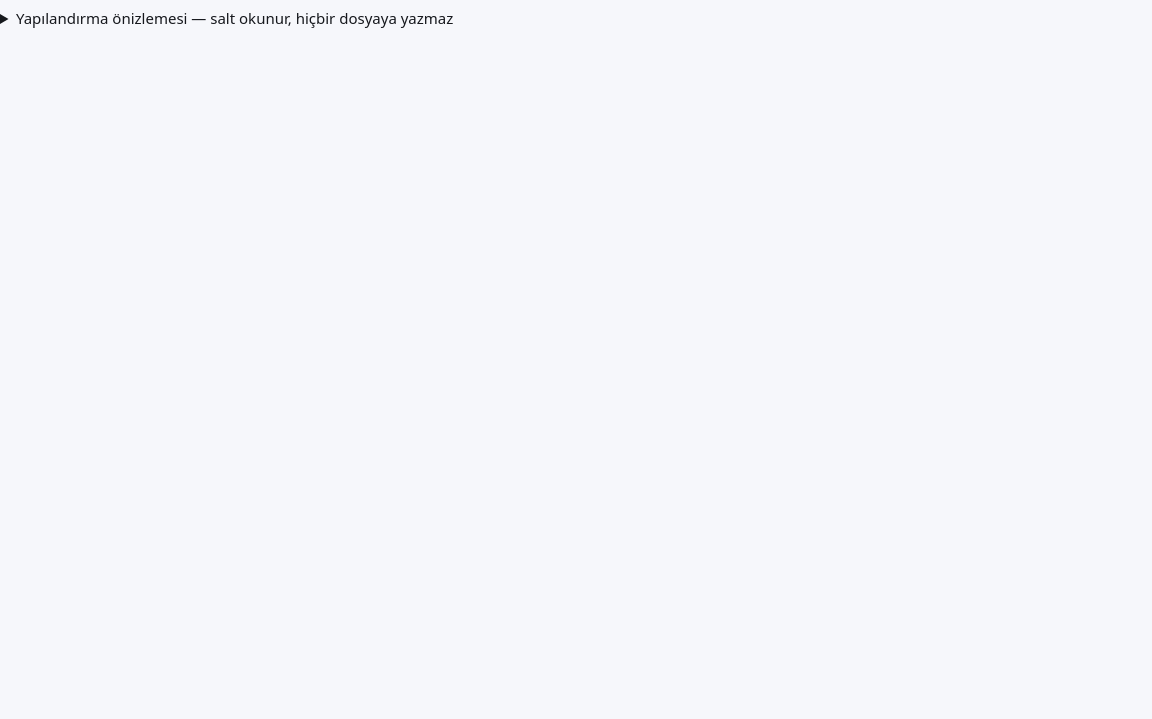
Scenario: opt-in, one click = one call, saying no › a changed-during-read answer is shown with no data and is not retried
This screenshot has width=1152, height=719.
Click the heading "Yapılandırma önizlemesi — salt okunur, hiçbir dosyaya yazmaz": (235, 18) [16, 8, 453, 28]
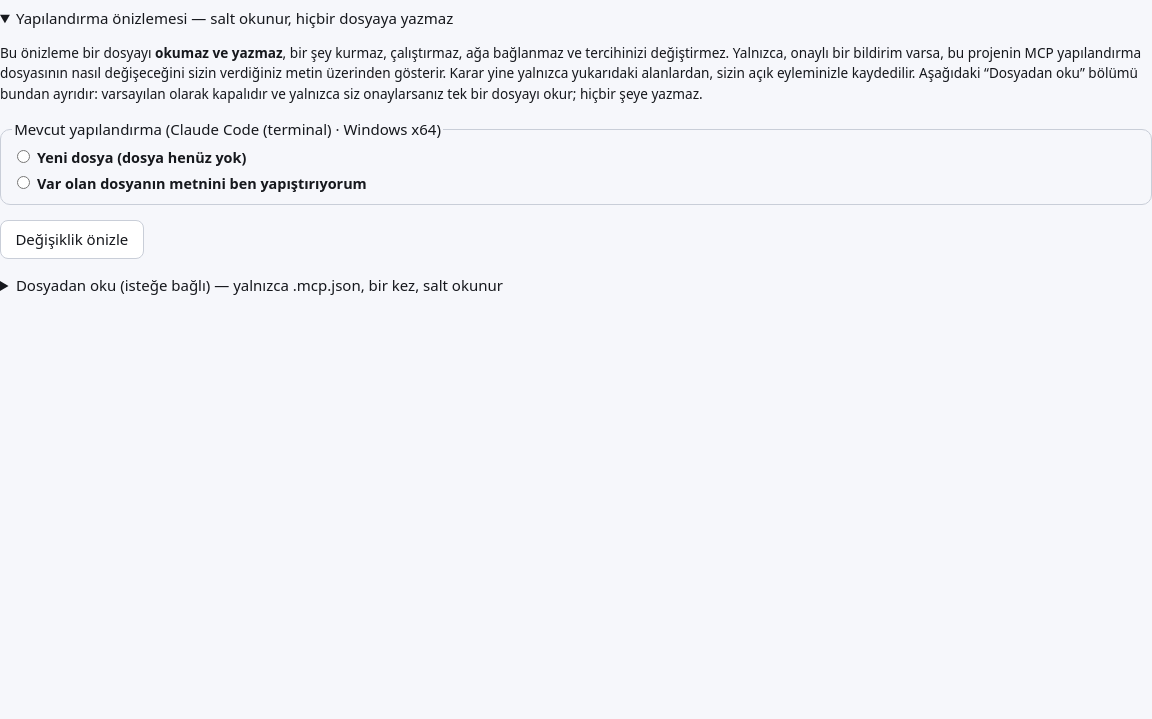
Click the heading "Dosyadan oku (isteğe bağlı) — yalnızca .mcp.json, bir kez, salt okunur": (259, 285) [16, 275, 503, 295]
(page scrolled)
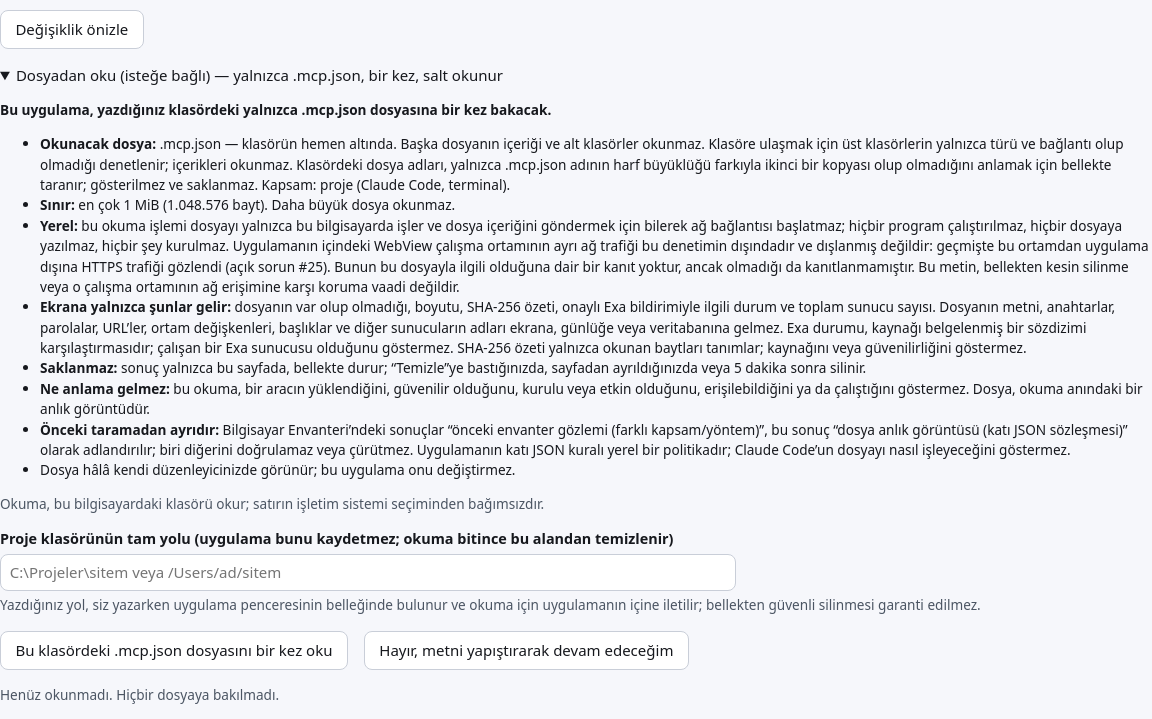
In the field labelled "Proje klasörünün tam yolu": (368, 573) [0, 554, 736, 591], type "C:\\Projeler\\sitem"
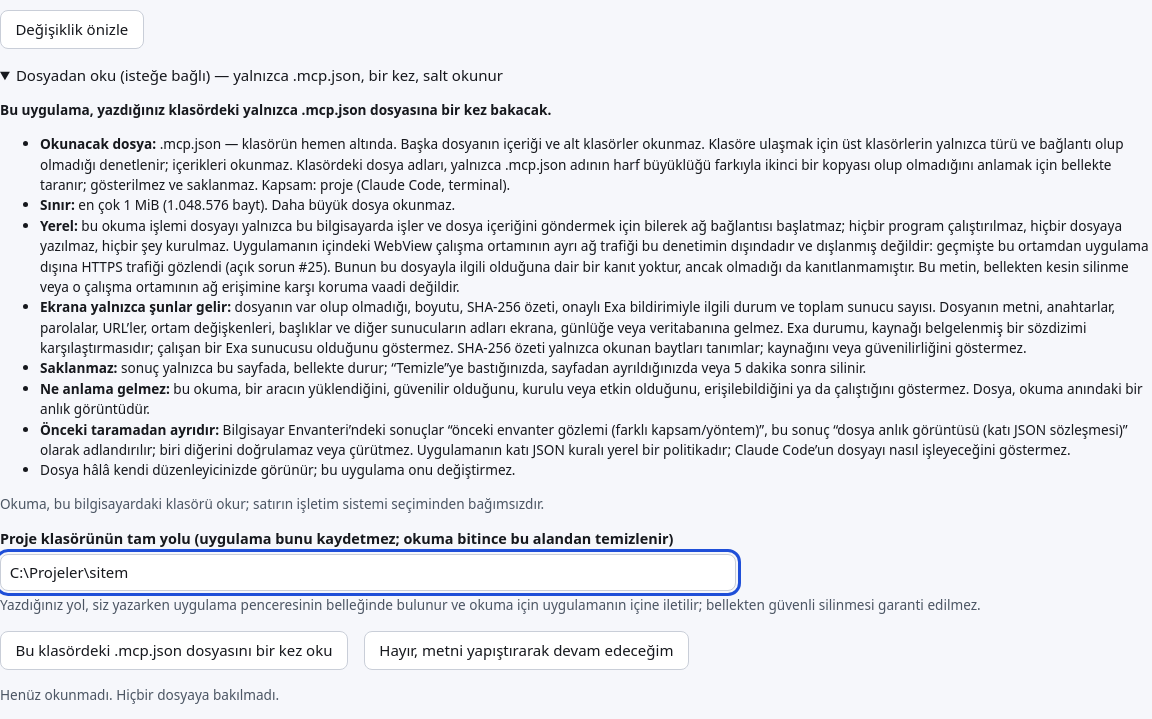
Click the button "Bu klasördeki .mcp.json dosyasını bir kez oku": (174, 650) [0, 631, 348, 670]
(page scrolled)
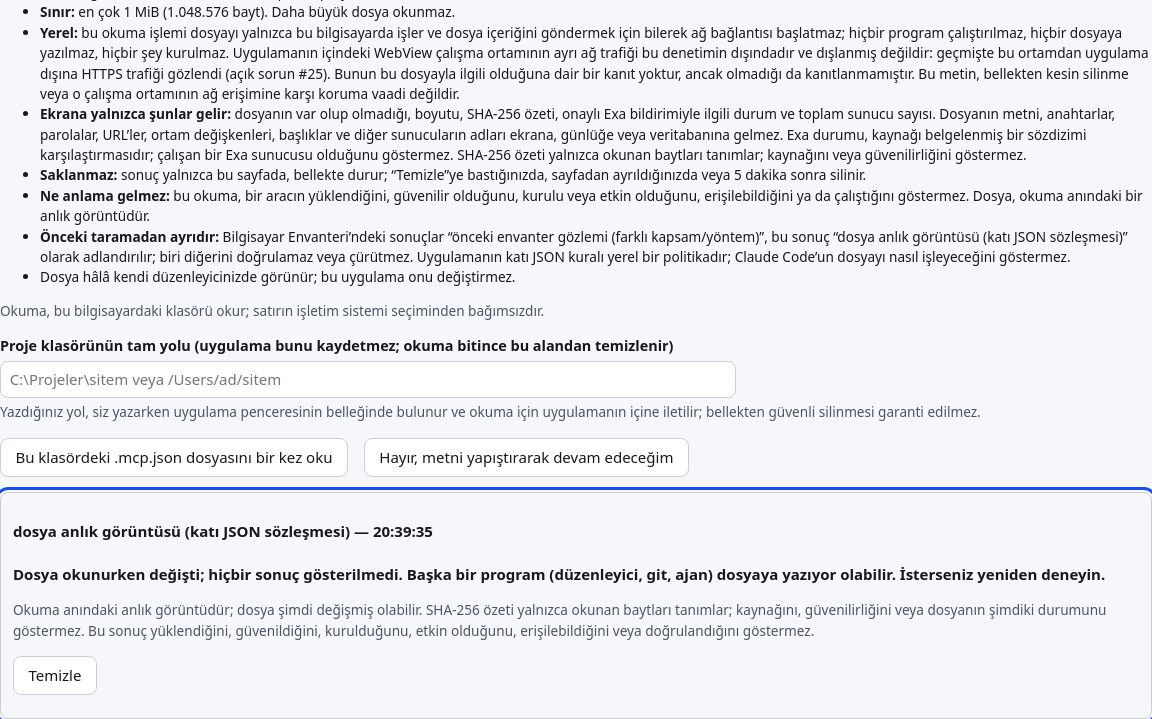
Expected: the text "okunurken değişti" is shown, [13, 564, 1105, 584]
